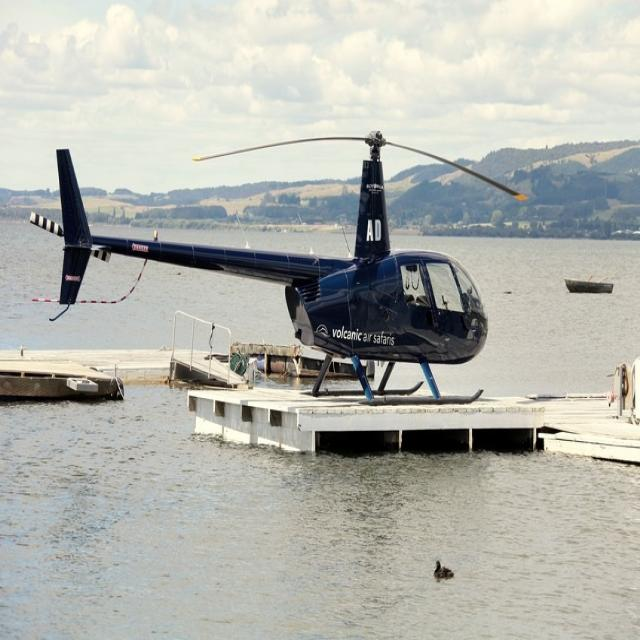CIV_HELO: (53, 129, 490, 410)
